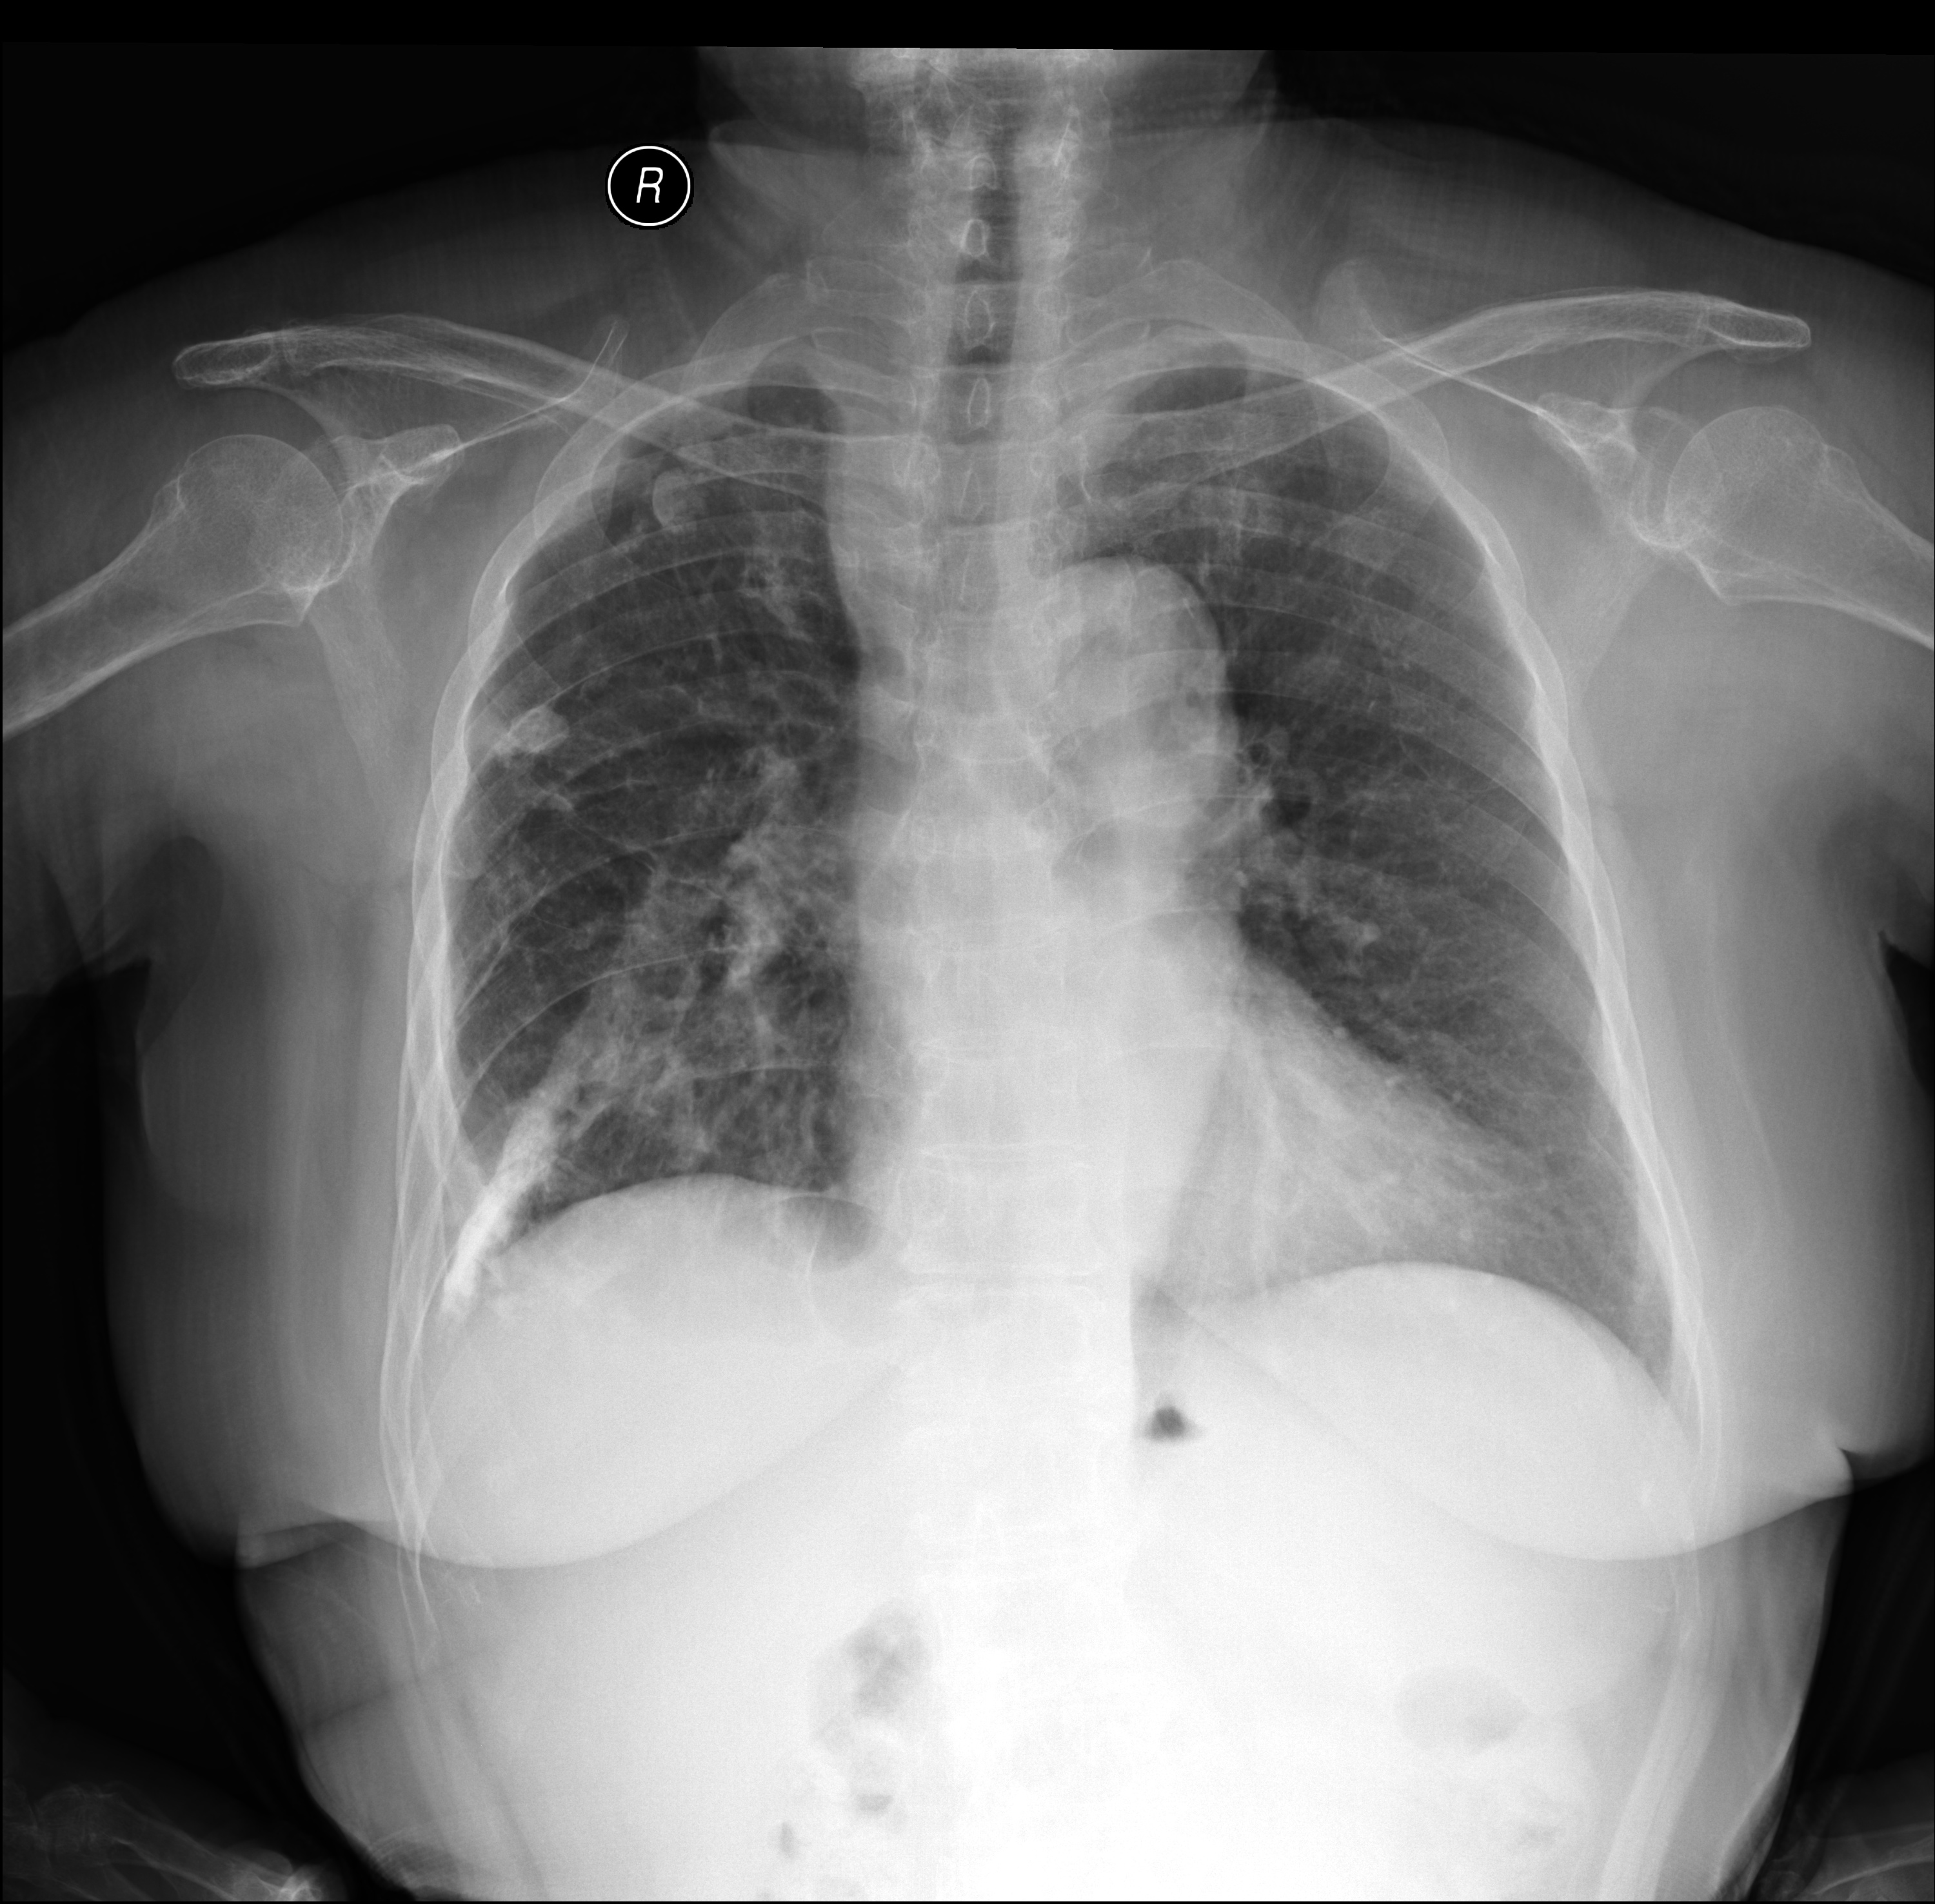nodule: (612, 436, 753, 575), (469, 675, 598, 786)
